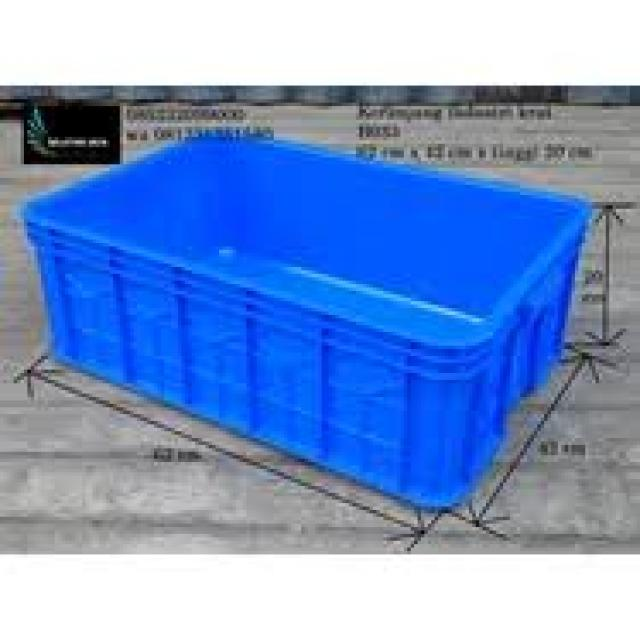basket: (0, 97, 597, 531)
